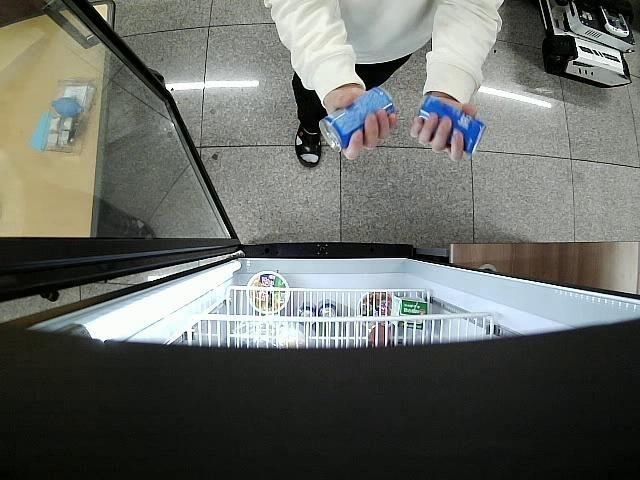15_letsbe: (318, 88, 395, 154), (416, 96, 486, 154)
